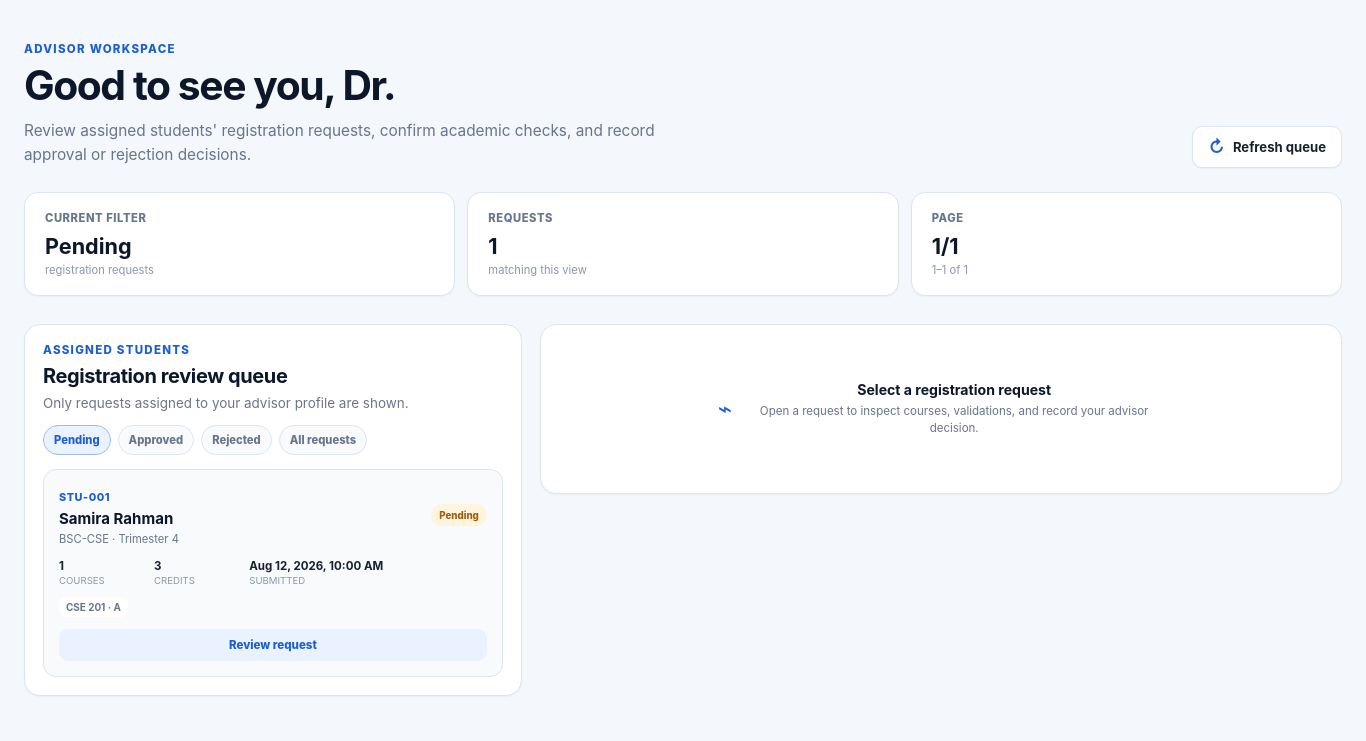
Test case: AdvisorDashboardPage › shows assigned registration requests and loads review details
Expected: the heading "Samira Rahman" is shown, [59, 509, 179, 528]
Expected: the text "STU-001" is shown, [59, 490, 110, 504]
Click the button "Review request". click: click(273, 645)
box: [59, 629, 487, 661]
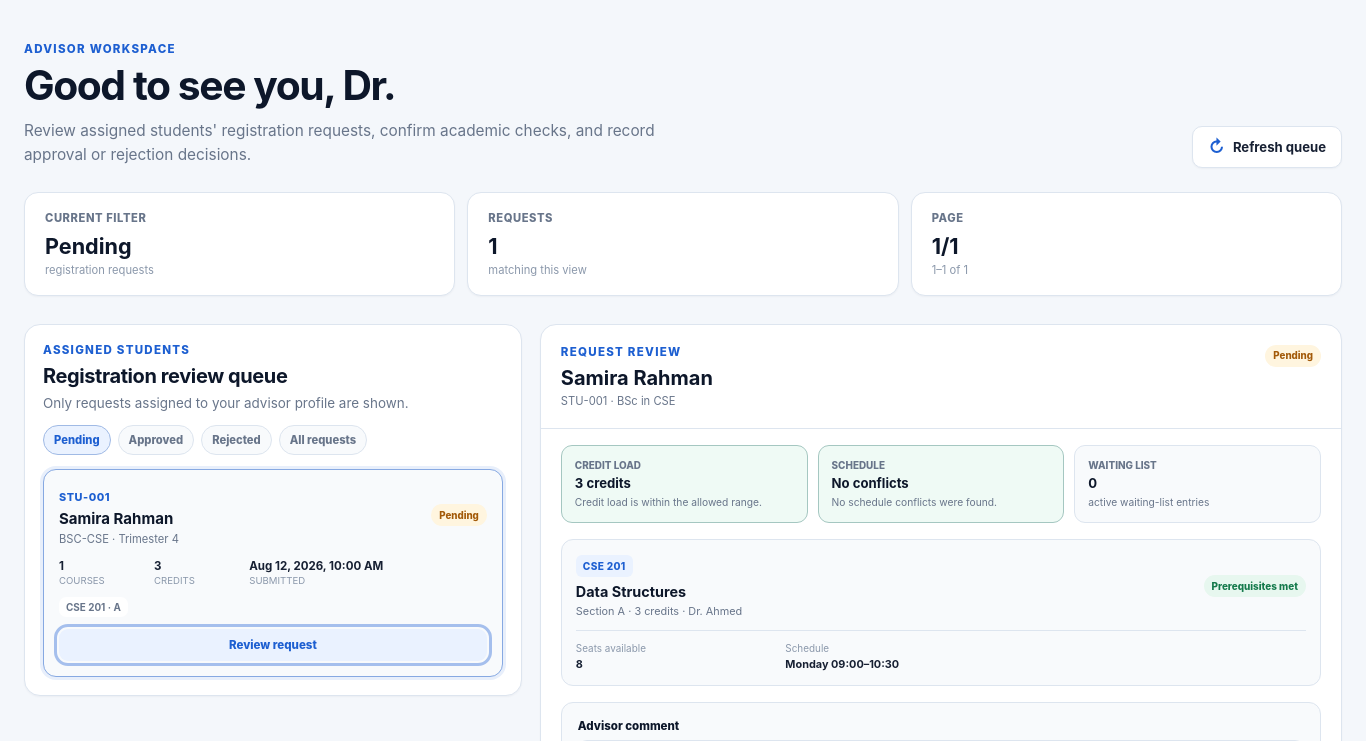
Now the text "Credit load is within the allowed range." is shown, box [575, 495, 794, 509]
Now the text "No schedule conflicts were found." is shown, box [832, 496, 997, 508]
Now the text "Prerequisites met" is shown, box [1204, 575, 1306, 597]
